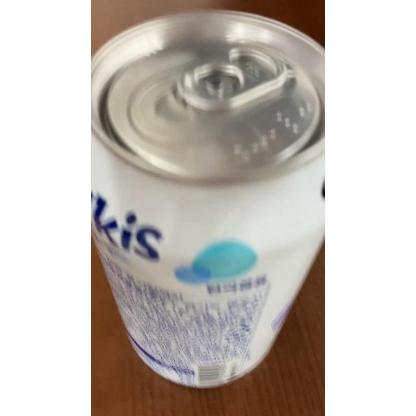Can: (92, 6, 324, 390)
